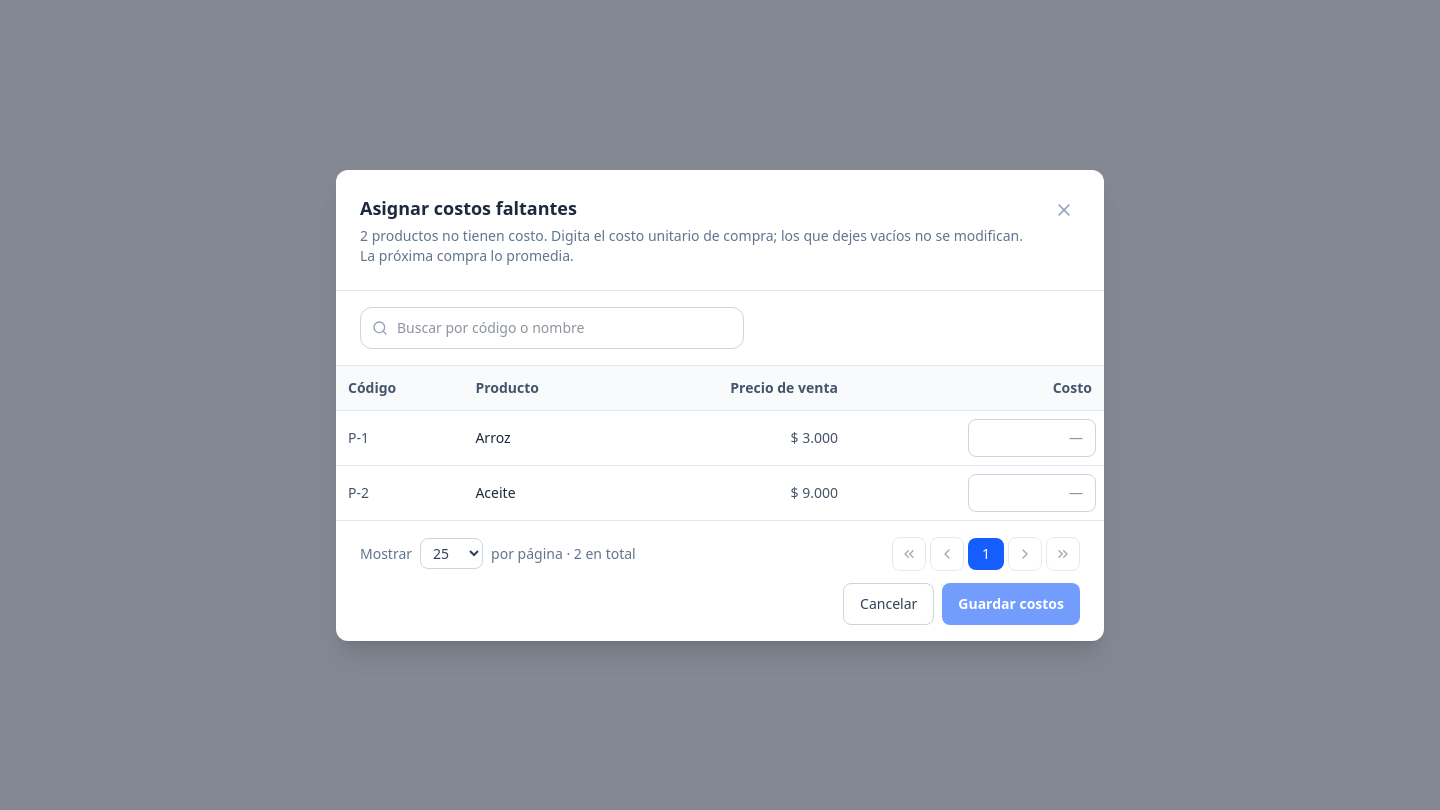
Scenario: MissingCostModal › filtra los productos por búsqueda
The width and height of the screenshot is (1440, 810).
Type "aceite" into the search field named "Buscar producto" at (552, 328), box [360,306,744,348]
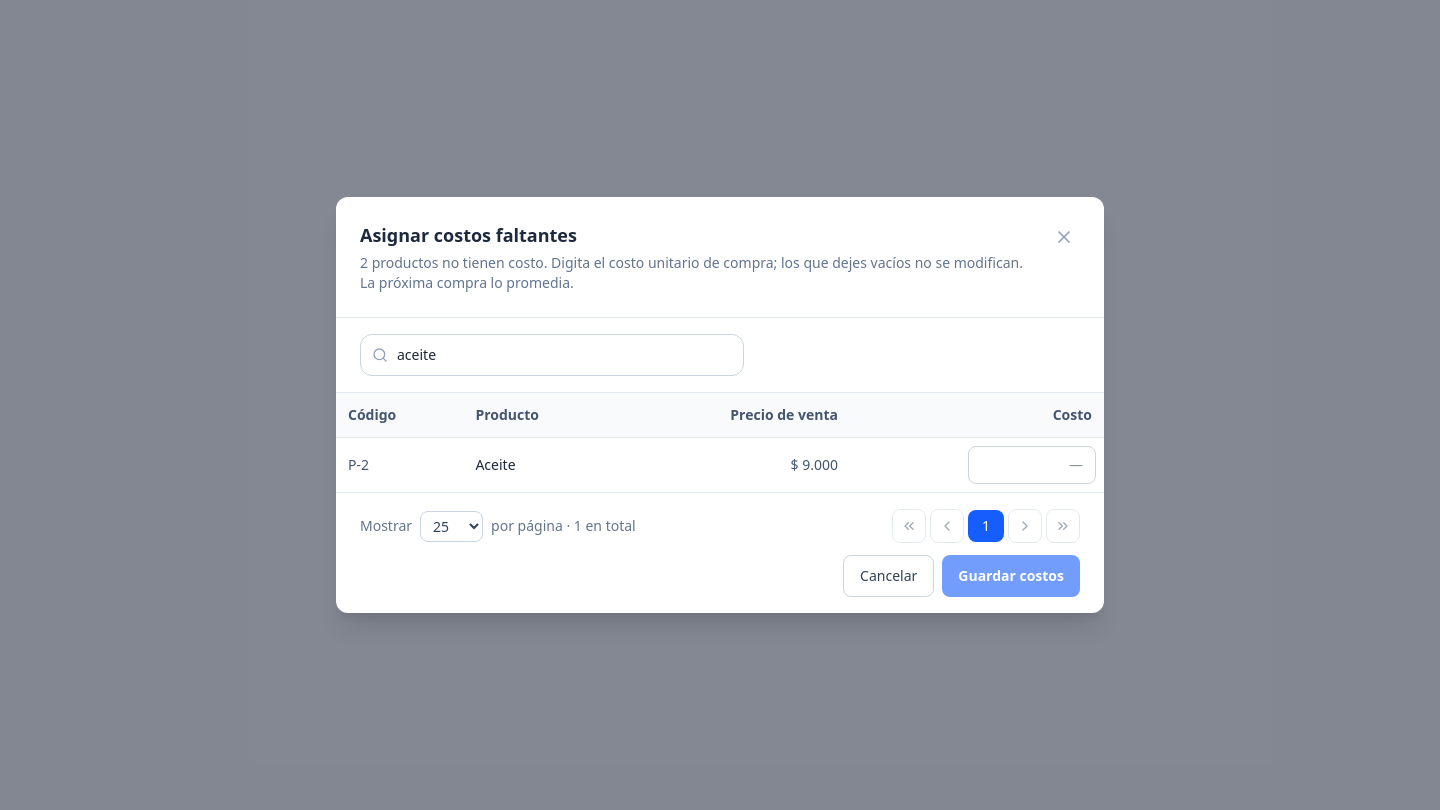
Expected: the field named "Costo de Aceite" is shown, [968,446,1096,484]
Expected: the cell labelled "Costo de Arroz" is gone
